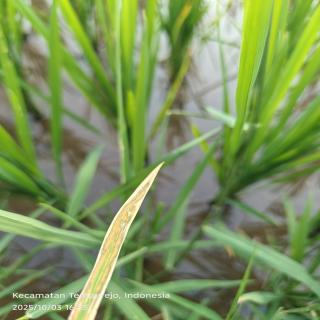Hawar-Daun: (82, 162, 163, 293), (96, 178, 154, 292)
